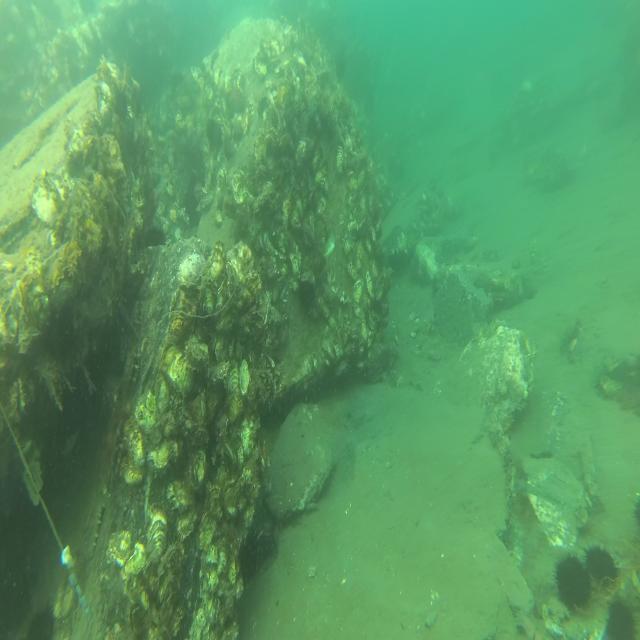echinus: (554, 551, 591, 610), (605, 599, 636, 640), (27, 604, 55, 640), (592, 549, 616, 582), (142, 223, 170, 251), (204, 116, 223, 151), (299, 276, 316, 310), (114, 87, 129, 120), (634, 494, 640, 535)
